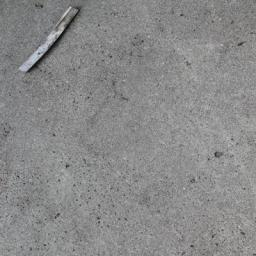FOD: (18, 1, 82, 80)
